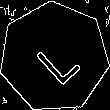L_NW: (26, 28, 82, 86)
